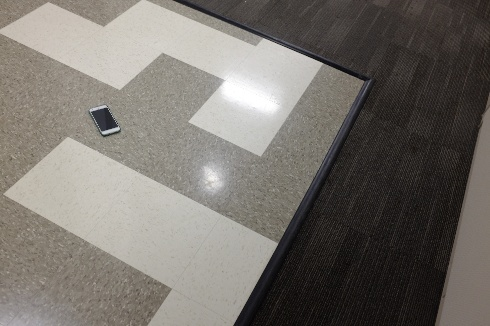phone: (79, 102, 128, 134)
